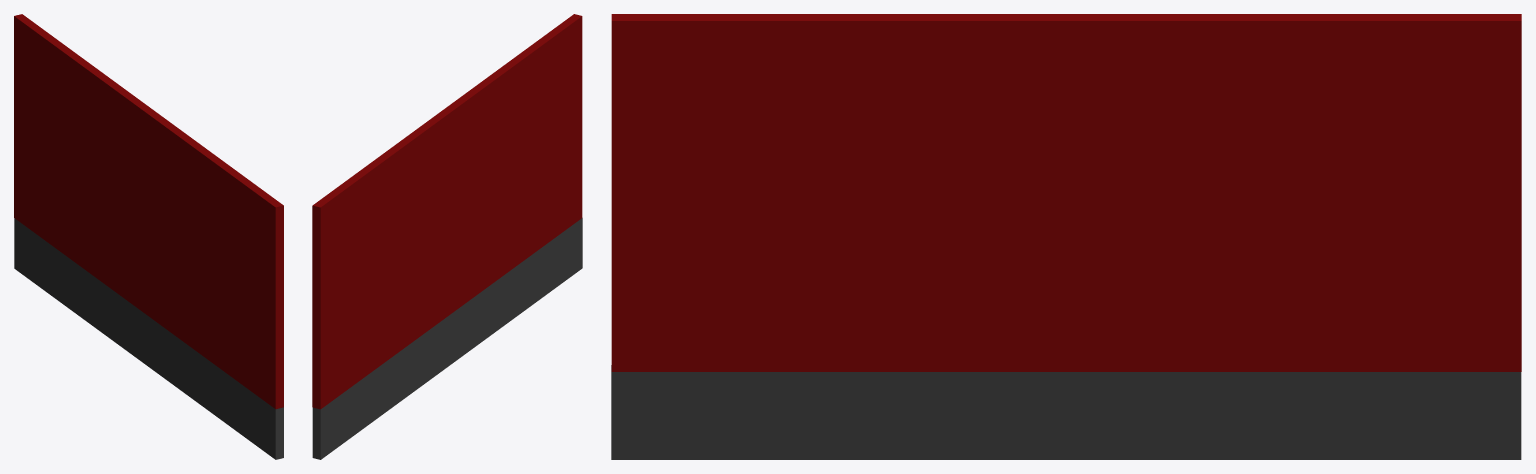
Rendered from jalangkung_wall_plain.fbx.
3 views of the same model, side by side, from view 1: azimuth 30°, elevation 25°; view 2: azimuth 150°, elevation 25°; view 3: azimuth 270°, elevation 25° (orthographic). The views are drawn at different scales.
Visible parts, largest first — view 1: wall.001, Cube.001; view 2: wall.001, Cube.001; view 3: wall.001, Cube.001.
Part boxes in pixels (left/top/right/bottom): wall.001: left=14, top=14, right=283, bottom=409; Cube.001: left=14, top=218, right=283, bottom=459; wall.001: left=312, top=14, right=582, bottom=409; Cube.001: left=312, top=218, right=582, bottom=459; wall.001: left=611, top=14, right=1521, bottom=371; Cube.001: left=611, top=365, right=1521, bottom=459.
Size of the model in its own units: 20.36 by 598 by 1125.
